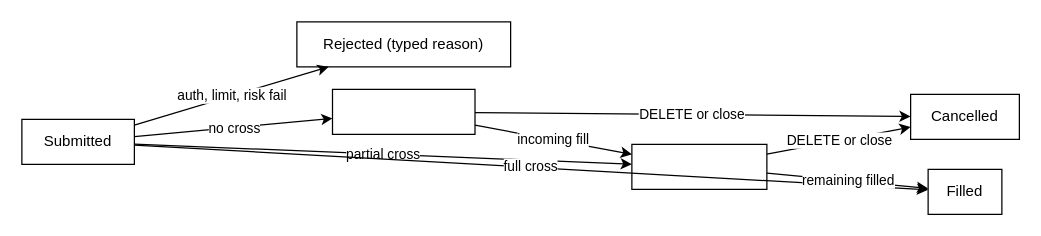
Image size: 1041x236. Some labels were removed from this diagram. Each missing label, with the centre of its shape:
"Open (resting)" goes at [403,111].
"Partially filled" goes at [699,166].
